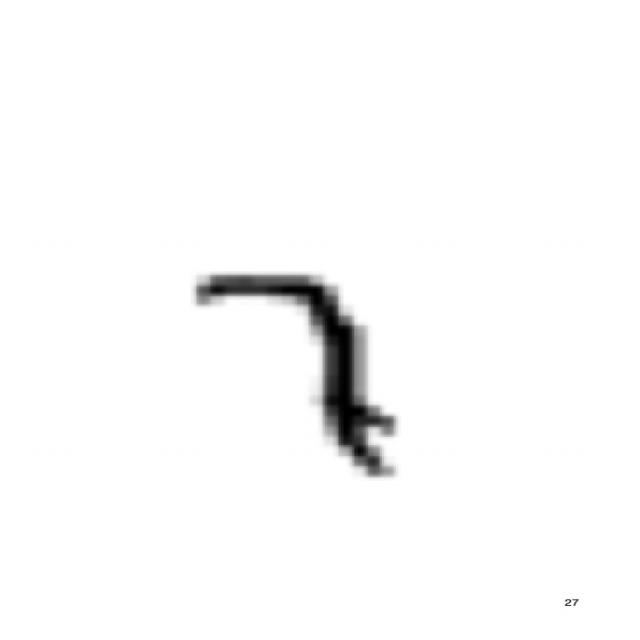6 -six-: (183, 260, 412, 490)
